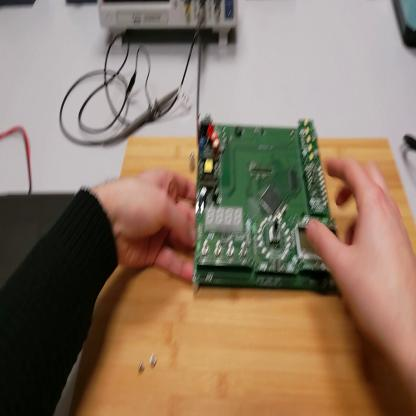hand: (309, 150, 416, 369), (110, 165, 201, 282)
low voltage board: (191, 121, 342, 302)
oscilloscope: (99, 2, 238, 51)
oscilloscope probe tip: (105, 89, 180, 147)
socket: (2, 1, 36, 11)
welder station: (391, 1, 416, 51)
working area: (70, 140, 416, 416)
